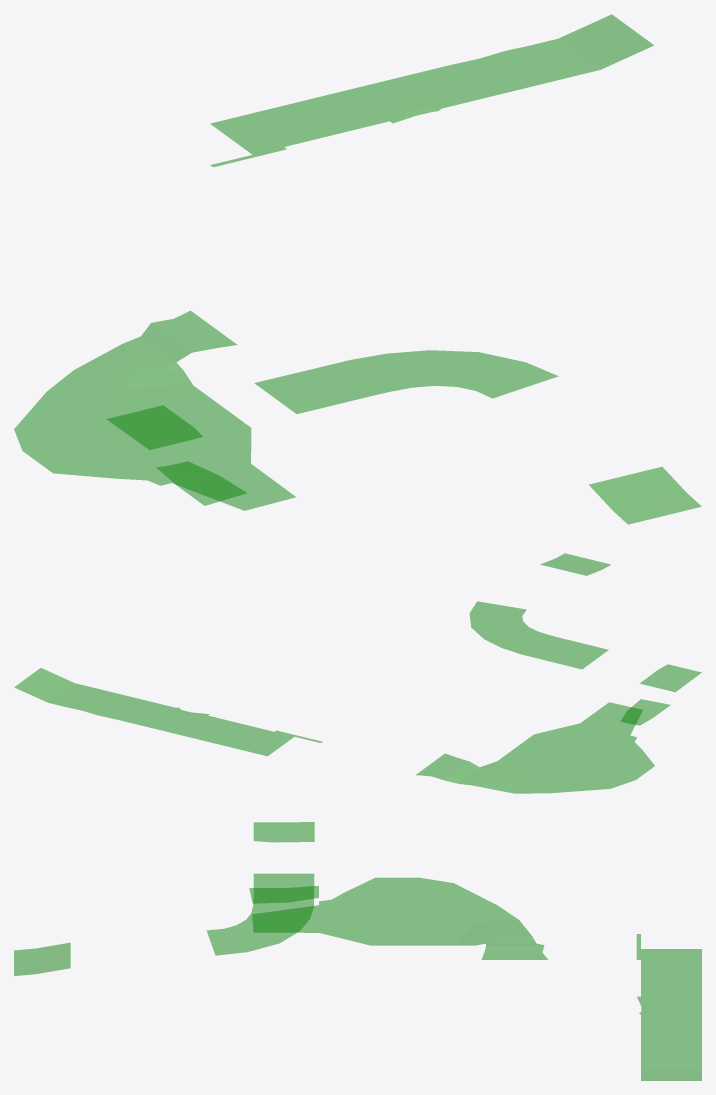
The model's file is suna.obj.
3 views of the same model, one above another, from view 1: azimuth 30°, elevation 25°; view 2: azimuth 150°, elevation 25°; view 3: azimuth 270°, elevation 25° (orthographic). The views are drawn at different scales.
Bounding box in the file's own units: 149 × 18.05 × 158.
